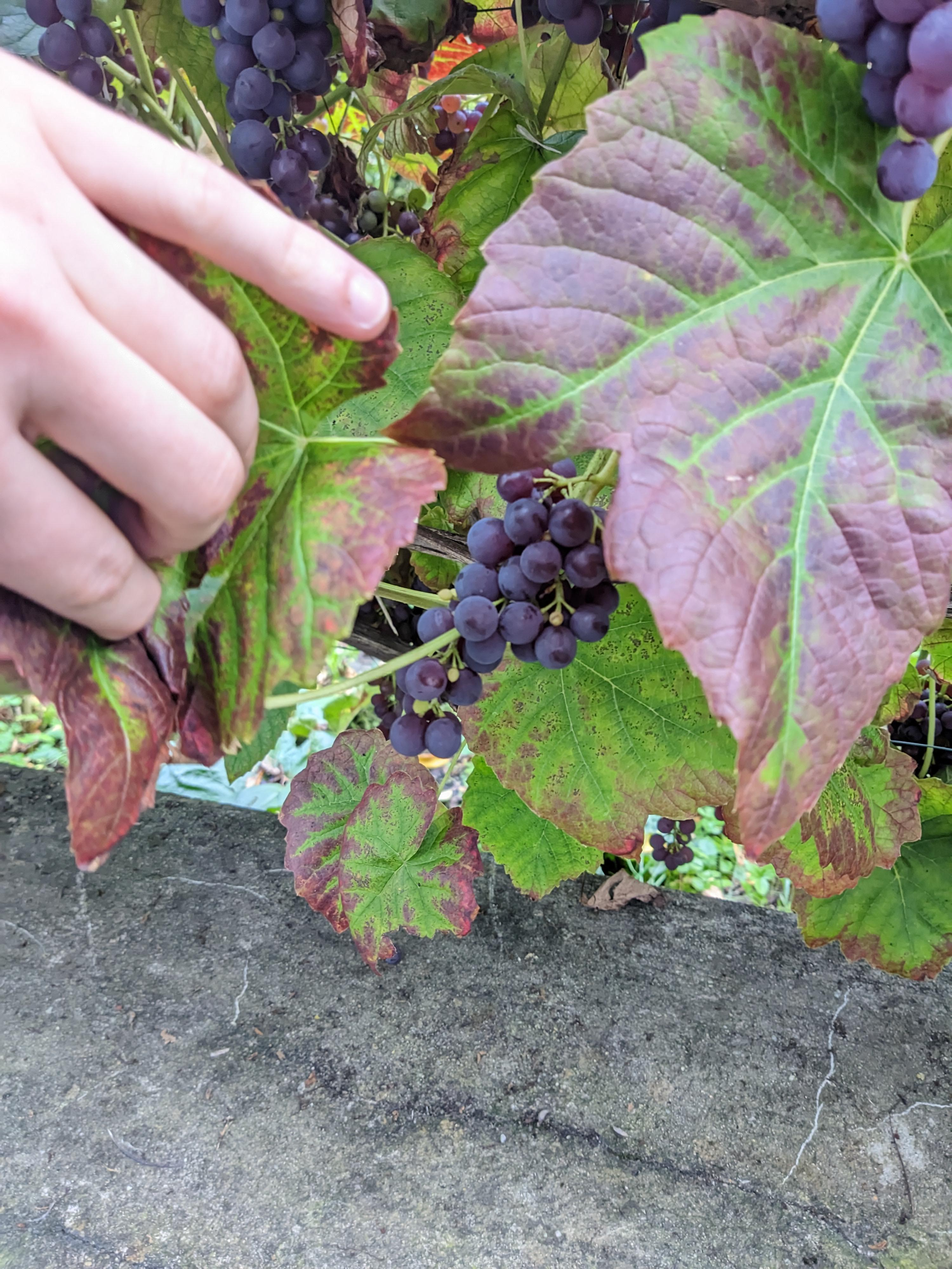Grape Unripe: (384, 460, 620, 760), (183, 0, 333, 209), (817, 0, 952, 203), (539, 0, 659, 86), (25, 0, 108, 99), (888, 659, 952, 761), (349, 189, 429, 248), (420, 94, 487, 155), (652, 816, 697, 872)
